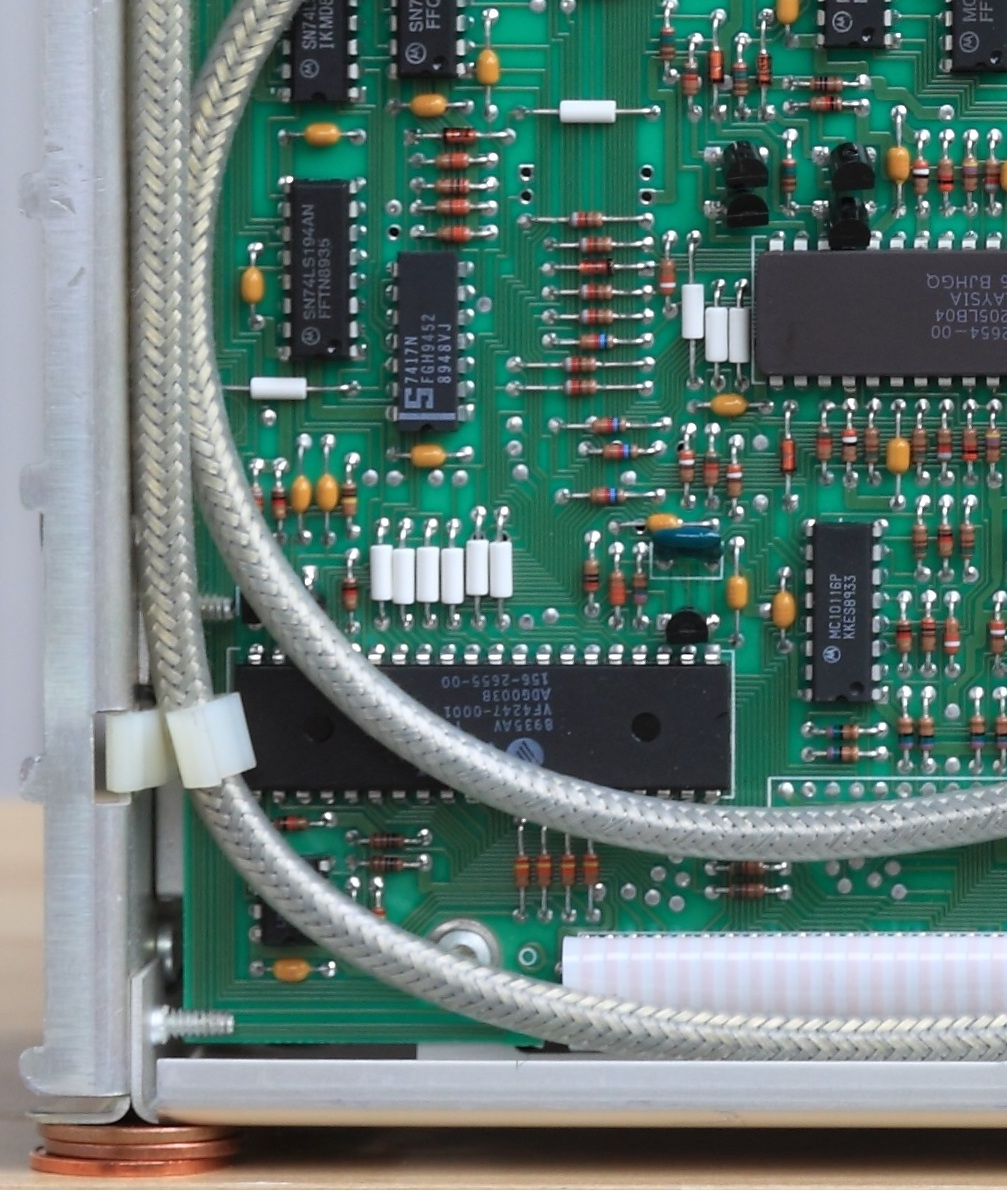Diode: (571, 257, 623, 280), (434, 124, 485, 146), (752, 44, 775, 90), (775, 433, 798, 478), (703, 44, 727, 86)
Resistor: (932, 515, 957, 569), (798, 72, 856, 95), (678, 55, 703, 103), (572, 281, 620, 306), (569, 305, 626, 326), (552, 355, 608, 376), (939, 614, 963, 663), (727, 58, 753, 103), (570, 233, 623, 255), (803, 94, 851, 118), (561, 208, 611, 231), (723, 459, 746, 509), (654, 21, 680, 65), (571, 331, 623, 353), (583, 485, 635, 507), (777, 152, 798, 206), (674, 442, 698, 489), (583, 415, 634, 437), (598, 441, 649, 463), (907, 153, 933, 196), (917, 611, 938, 663), (265, 814, 317, 835), (431, 223, 478, 246), (811, 421, 834, 468), (957, 153, 980, 200), (721, 882, 770, 904), (655, 254, 678, 300), (934, 151, 957, 197), (429, 196, 477, 218), (337, 477, 360, 522), (981, 152, 1003, 198), (958, 421, 980, 467), (820, 721, 864, 744), (580, 848, 603, 892), (724, 859, 772, 880), (364, 831, 412, 852), (628, 567, 652, 609), (909, 518, 929, 568), (838, 424, 860, 469), (984, 614, 1006, 659), (338, 570, 360, 615), (557, 377, 604, 398), (982, 423, 1003, 470), (698, 450, 722, 491), (861, 420, 881, 469), (956, 520, 978, 564), (908, 423, 929, 469), (892, 617, 915, 659), (557, 847, 578, 893), (429, 177, 477, 197), (821, 744, 864, 766), (534, 849, 555, 894), (511, 851, 533, 893), (364, 854, 408, 875), (268, 482, 289, 526), (430, 150, 478, 169), (934, 422, 955, 465), (581, 555, 601, 597), (609, 567, 628, 611), (917, 714, 937, 754), (991, 707, 1007, 754)
